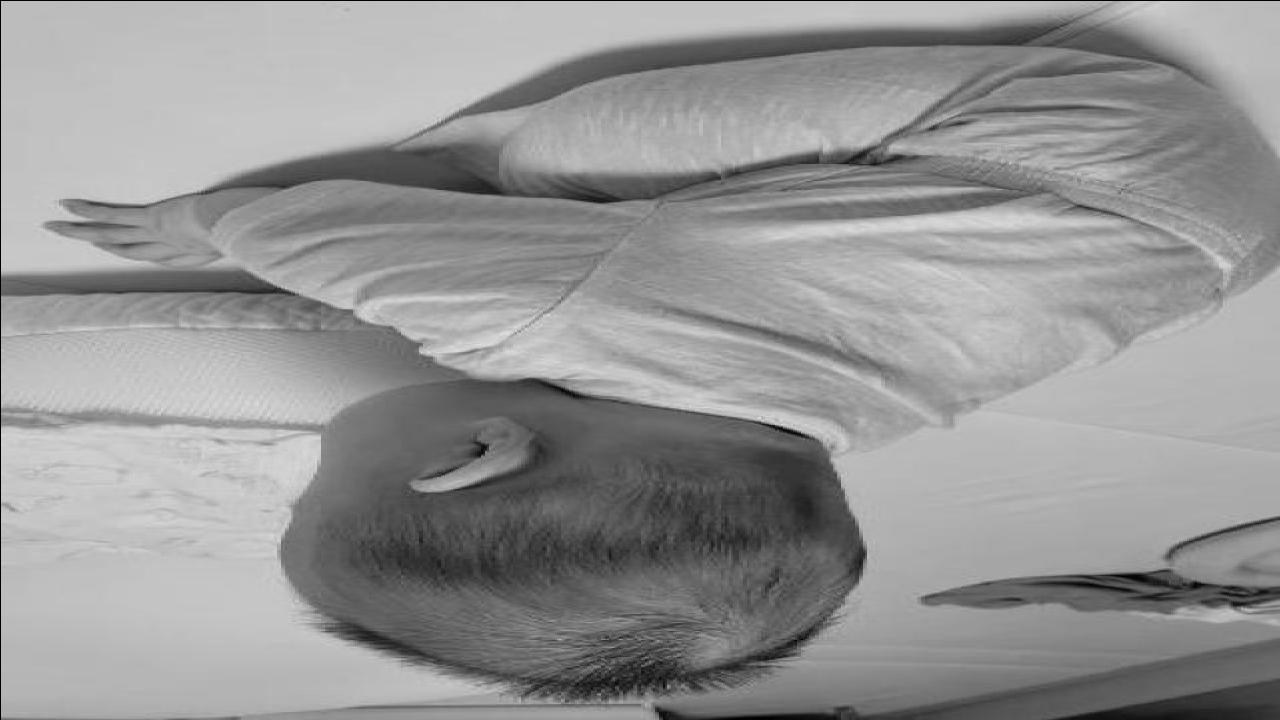hand: (44, 197, 232, 270)
